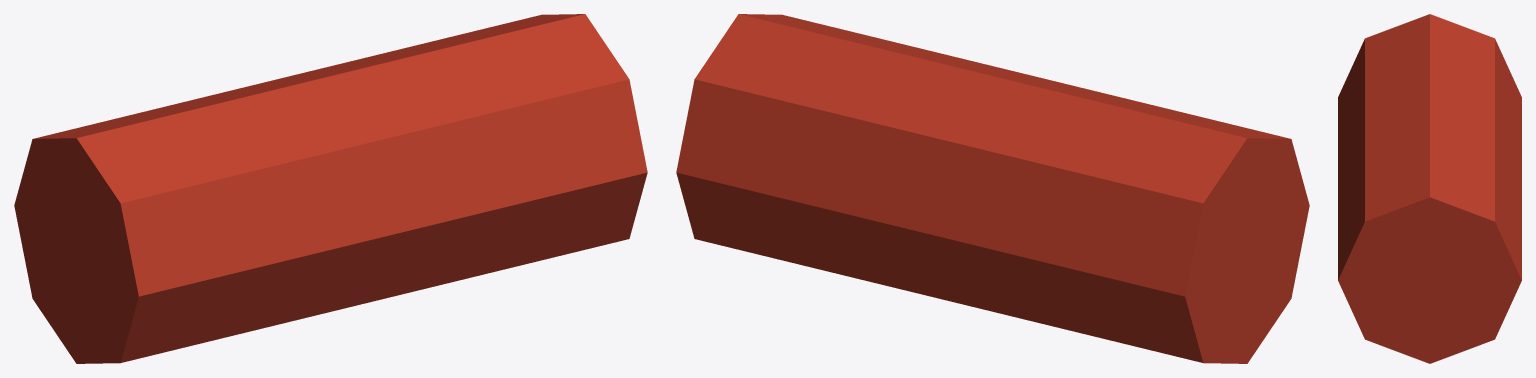
File: ShotgunCasingBig.glb
3 views of the same model, side by side, from view 1: azimuth 30°, elevation 25°; view 2: azimuth 150°, elevation 25°; view 3: azimuth 270°, elevation 25° (orthographic). The views are drawn at different scales.
Parts seen in each view (by area): view 1: ammoCaseCylinder (1); view 2: ammoCaseCylinder (1); view 3: ammoCaseCylinder (1).
Part boxes in pixels (left/top/right/bottom): ammoCaseCylinder (1): left=14, top=14, right=647, bottom=363; ammoCaseCylinder (1): left=676, top=14, right=1309, bottom=363; ammoCaseCylinder (1): left=1338, top=14, right=1521, bottom=363.
Bounding box in the file's own units: 0.1509 × 0.064 × 0.064.
Materials: 1 (1 with a texture image).
